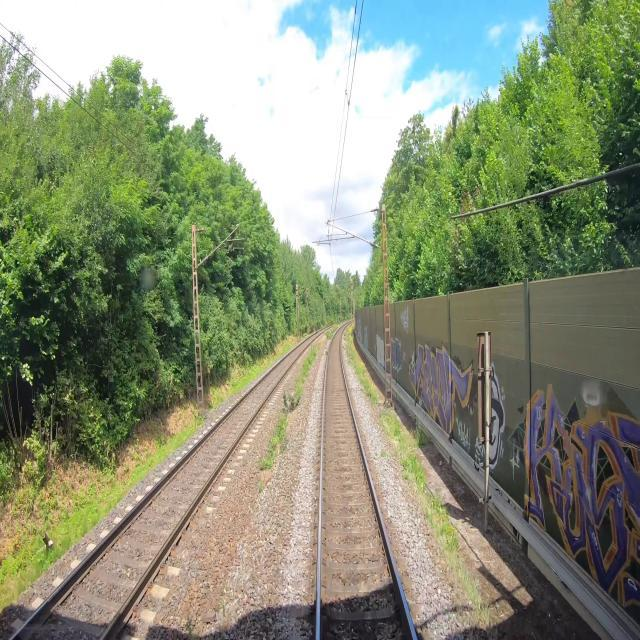Plant: (257, 341, 320, 494), (325, 324, 340, 340)
